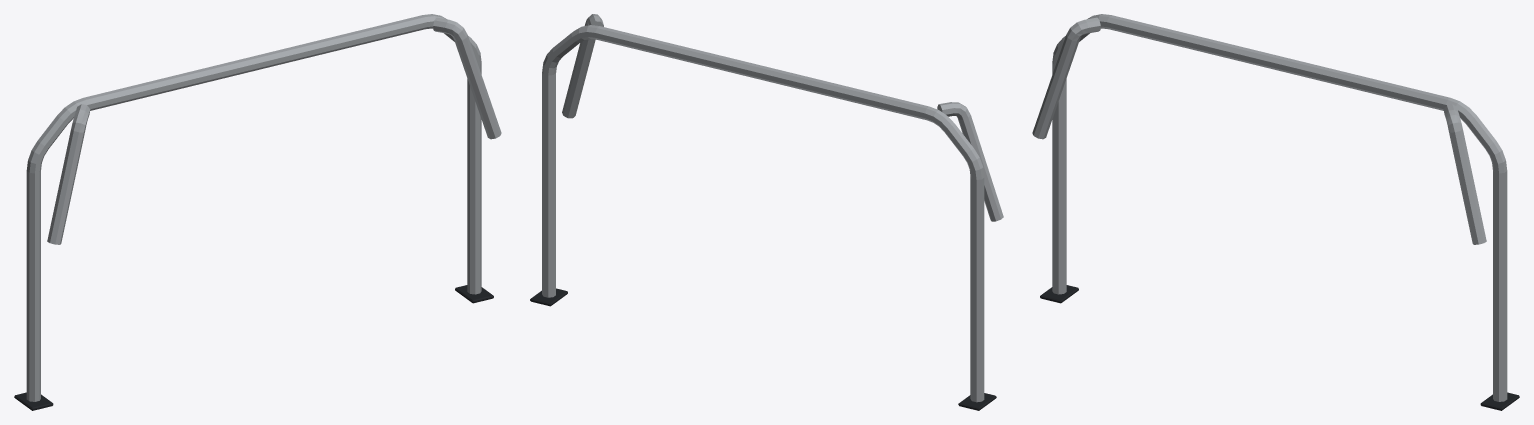
The model's file is hana_roadster.glb.
3 renders of one model, left to right at view 1: azimuth 30°, elevation 25°; view 2: azimuth 150°, elevation 25°; view 3: azimuth 330°, elevation 25°, orthographic. The views are drawn at different scales.
Visible parts, largest first — view 1: model; view 2: model; view 3: model.
Boxes of the visible parts, x1,y1,x2,y2 form: model: (14, 14, 501, 410); model: (530, 14, 1003, 410); model: (1032, 14, 1519, 410).
Size of the model in its own units: 1.47 by 0.8857 by 0.1802.
Materials: 2 (1 with a texture image).
